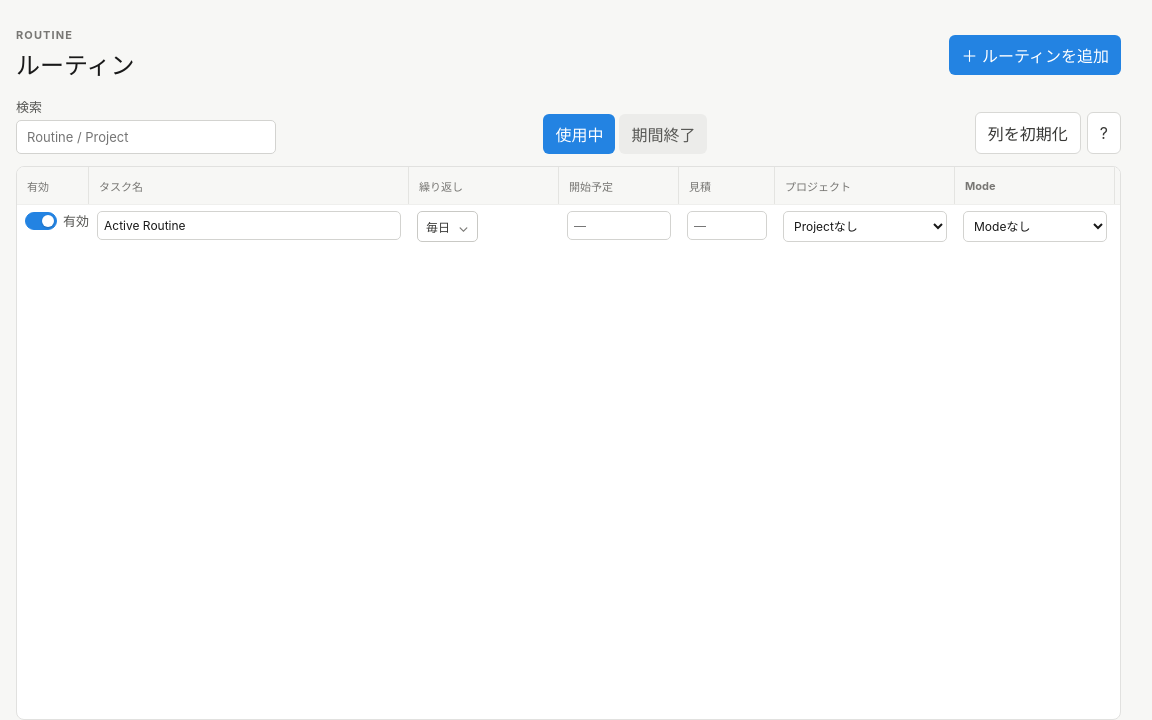
Test: Routine Board › resets uncontrolled inline text to server canonical state after a rejected mutation
Replace the text in the field named "Active RoutineのRoutine名" with "Stale local title" at (249, 226), box [97,211,401,240]
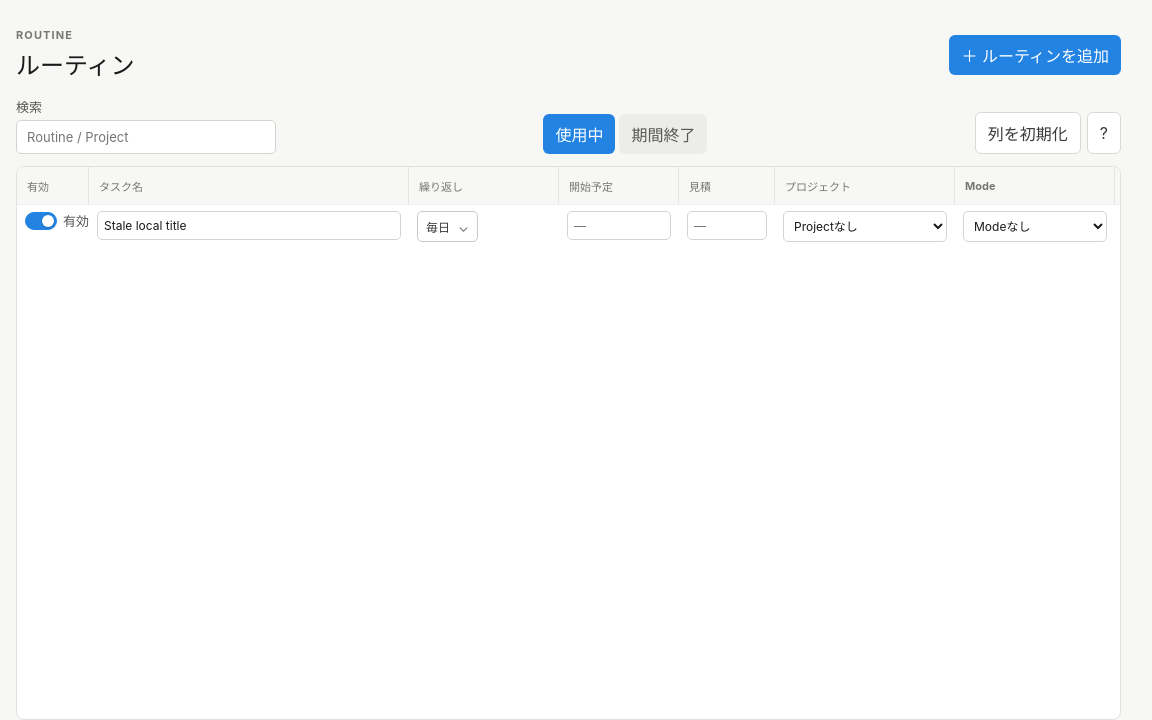
Leave the field named "Active RoutineのRoutine名", box [97,211,401,240]
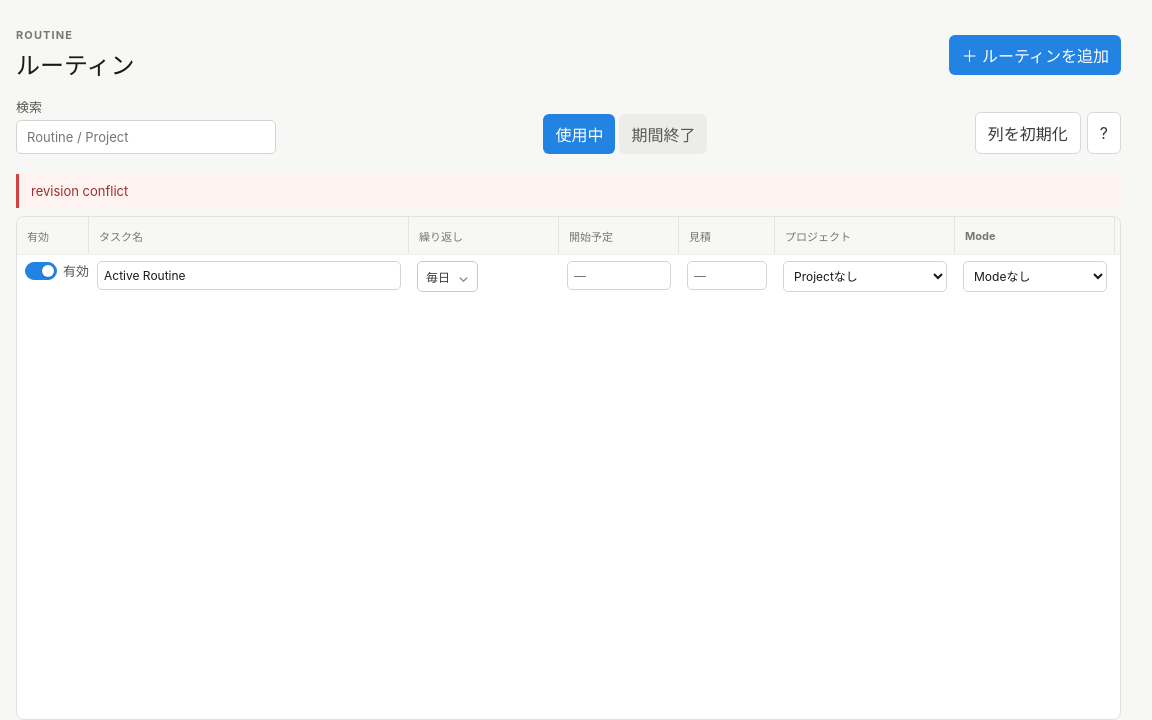
Expected: the field named "Active RoutineのRoutine名" holds "Active Routine", [97,261,401,290]
Expected: the message reads "revision conflict", [31,183,128,199]
